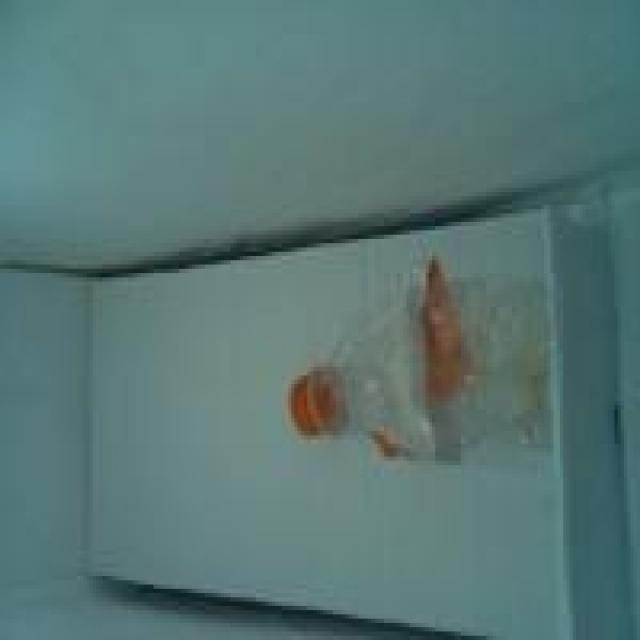bottle: (255, 243, 586, 487)
